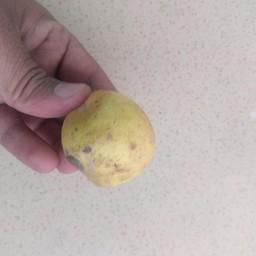Bad_lime: (57, 91, 160, 190)
